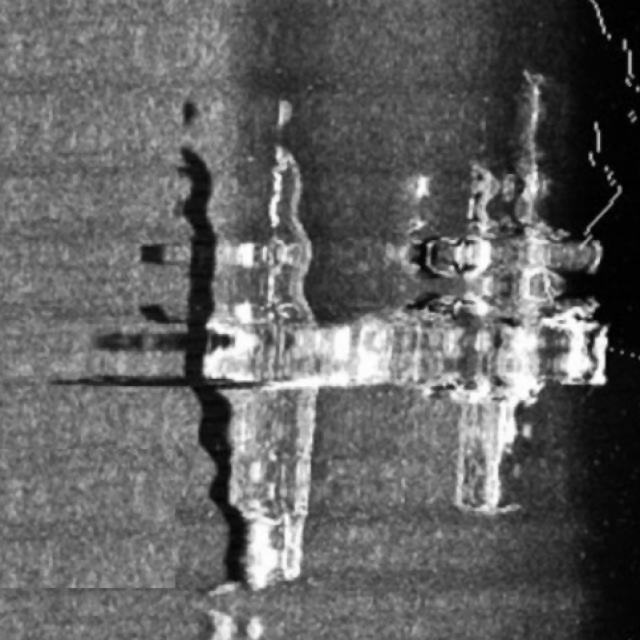Plane: (193, 64, 612, 600)
